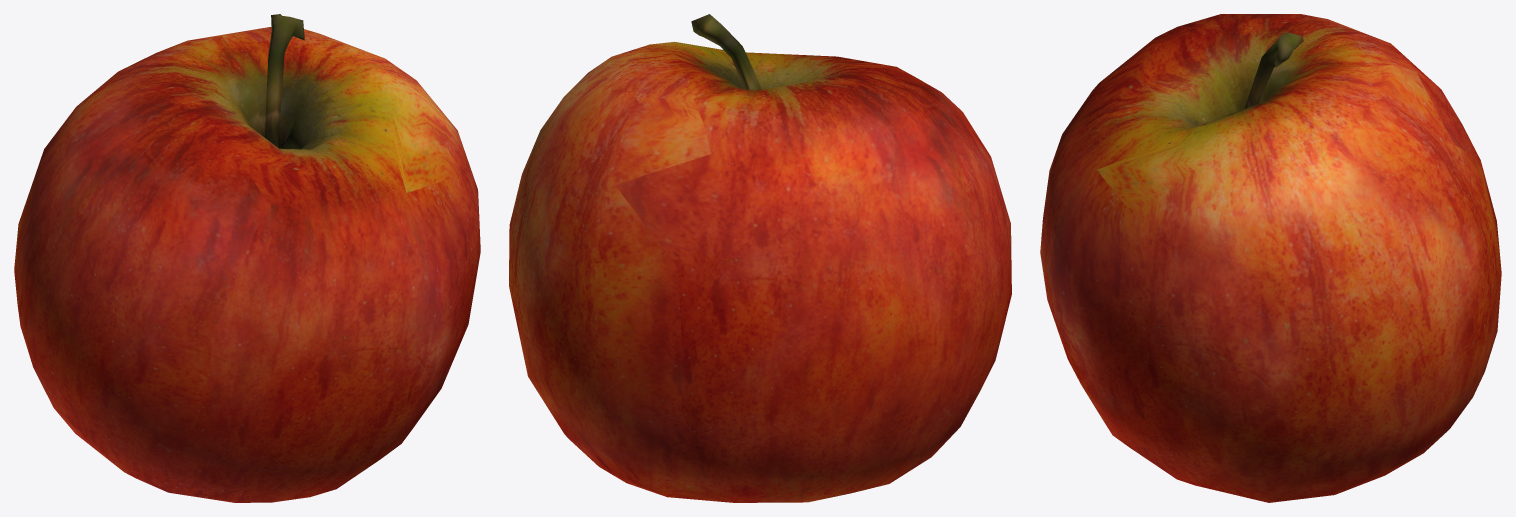
Rendered from apple-v1.glb.
3 renders of one model, left to right at view 1: azimuth 30°, elevation 25°; view 2: azimuth 150°, elevation 25°; view 3: azimuth 270°, elevation 25°, orthographic. The views are drawn at different scales.
Visible parts, largest first — view 1: apple_low_obj_Material #35_0; view 2: apple_low_obj_Material #35_0; view 3: apple_low_obj_Material #35_0.
Part boxes in pixels (x1,y1,x2,y2): apple_low_obj_Material #35_0: [14, 14, 480, 502]; apple_low_obj_Material #35_0: [509, 14, 1011, 502]; apple_low_obj_Material #35_0: [1040, 14, 1501, 502].
Bounding box in the file's own units: 82.2 × 82.04 × 76.48.
Materials: 1 (1 with a texture image).
